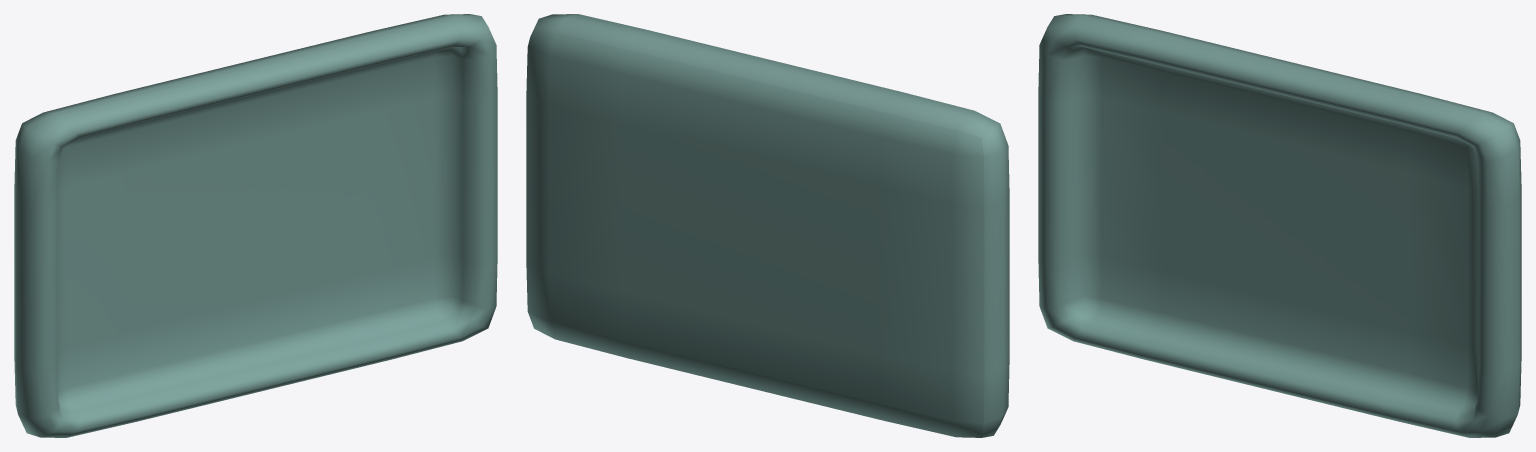
The model's file is image_frame.glb.
3 views of the same model, side by side, from view 1: azimuth 30°, elevation 25°; view 2: azimuth 150°, elevation 25°; view 3: azimuth 330°, elevation 25° (orthographic).
Parts seen in each view (by area): view 1: IMAGE_frame; view 2: IMAGE_frame; view 3: IMAGE_frame.
Part boxes in pixels (x1,y1,x2,y2): IMAGE_frame: (14,14,497,437); IMAGE_frame: (526,14,1009,437); IMAGE_frame: (1038,14,1521,437).
Size of what is drawn, in the model's own units: 1.68 by 1.09 by 0.1885.
Materials: 1 (1 with a texture image).
